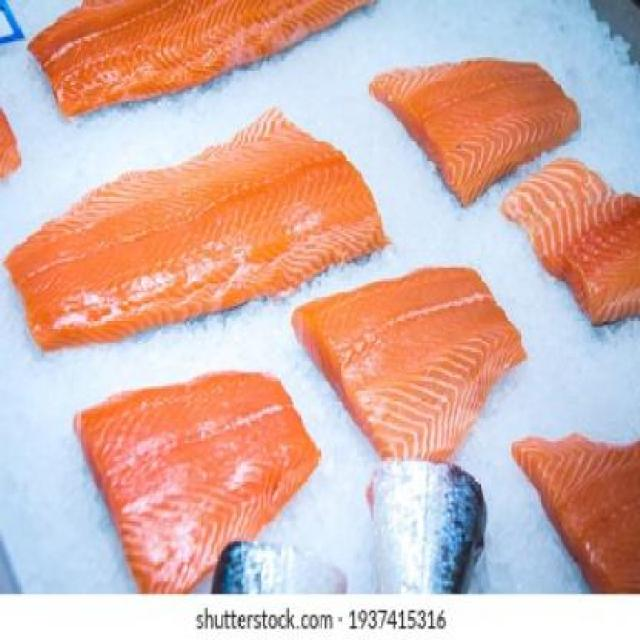salmon: (11, 108, 401, 357), (78, 348, 314, 594), (280, 251, 530, 470), (22, 3, 396, 126), (382, 48, 596, 214)
